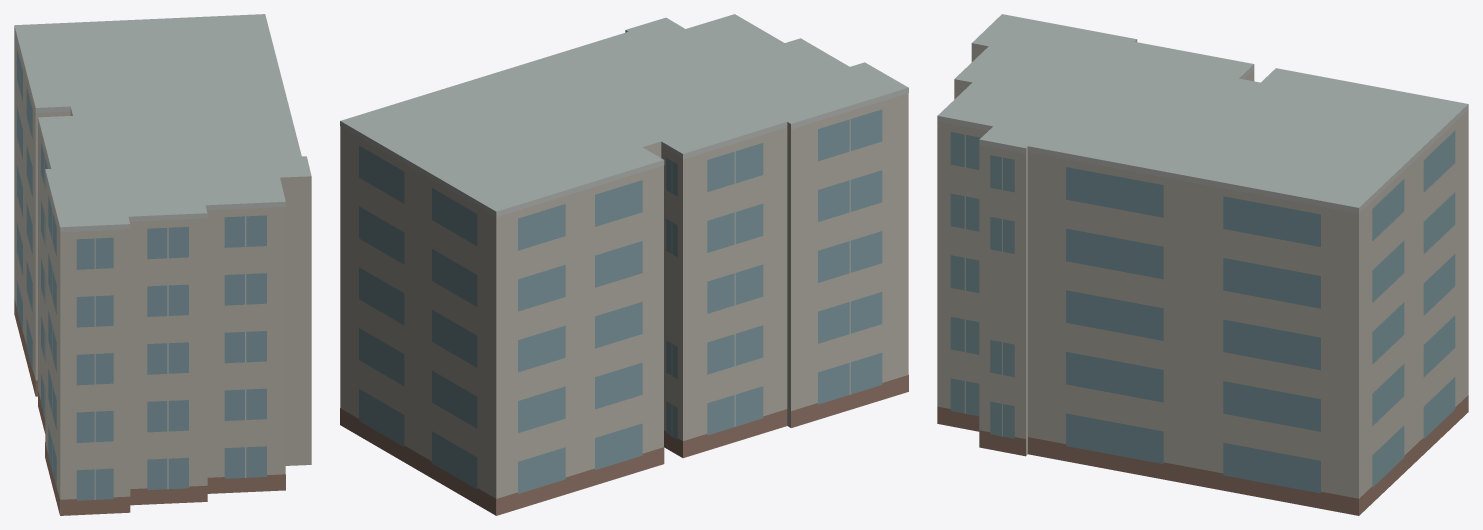
Rendered from survey-upis-32531034.glb.
The picture shows the model from 3 angles, left to right: view 1: azimuth 30°, elevation 25°; view 2: azimuth 150°, elevation 25°; view 3: azimuth 270°, elevation 25°; orthographic projection. The views are drawn at different scales.
Parts seen in each view (by area): view 1: survey-upis-32531034.tmp; view 2: survey-upis-32531034.tmp; view 3: survey-upis-32531034.tmp.
Part boxes in pixels (bbox=[...]): survey-upis-32531034.tmp: bbox=[14, 14, 311, 515]; survey-upis-32531034.tmp: bbox=[340, 14, 908, 515]; survey-upis-32531034.tmp: bbox=[937, 14, 1468, 515].
Size of the model in its own units: 18.37 by 13.6 by 21.26.
